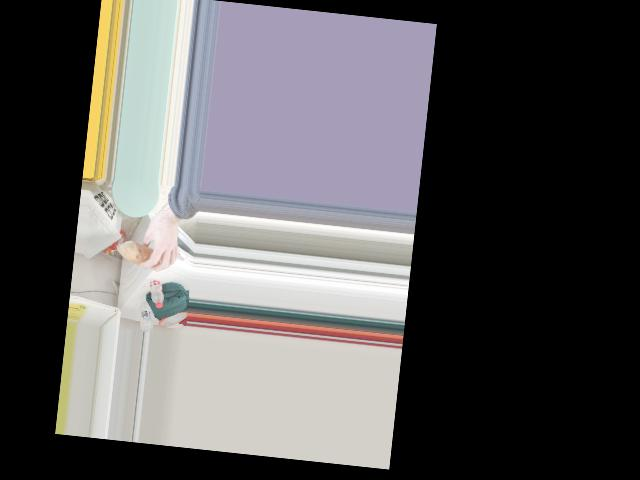sweet_potato: (117, 240, 167, 267)
